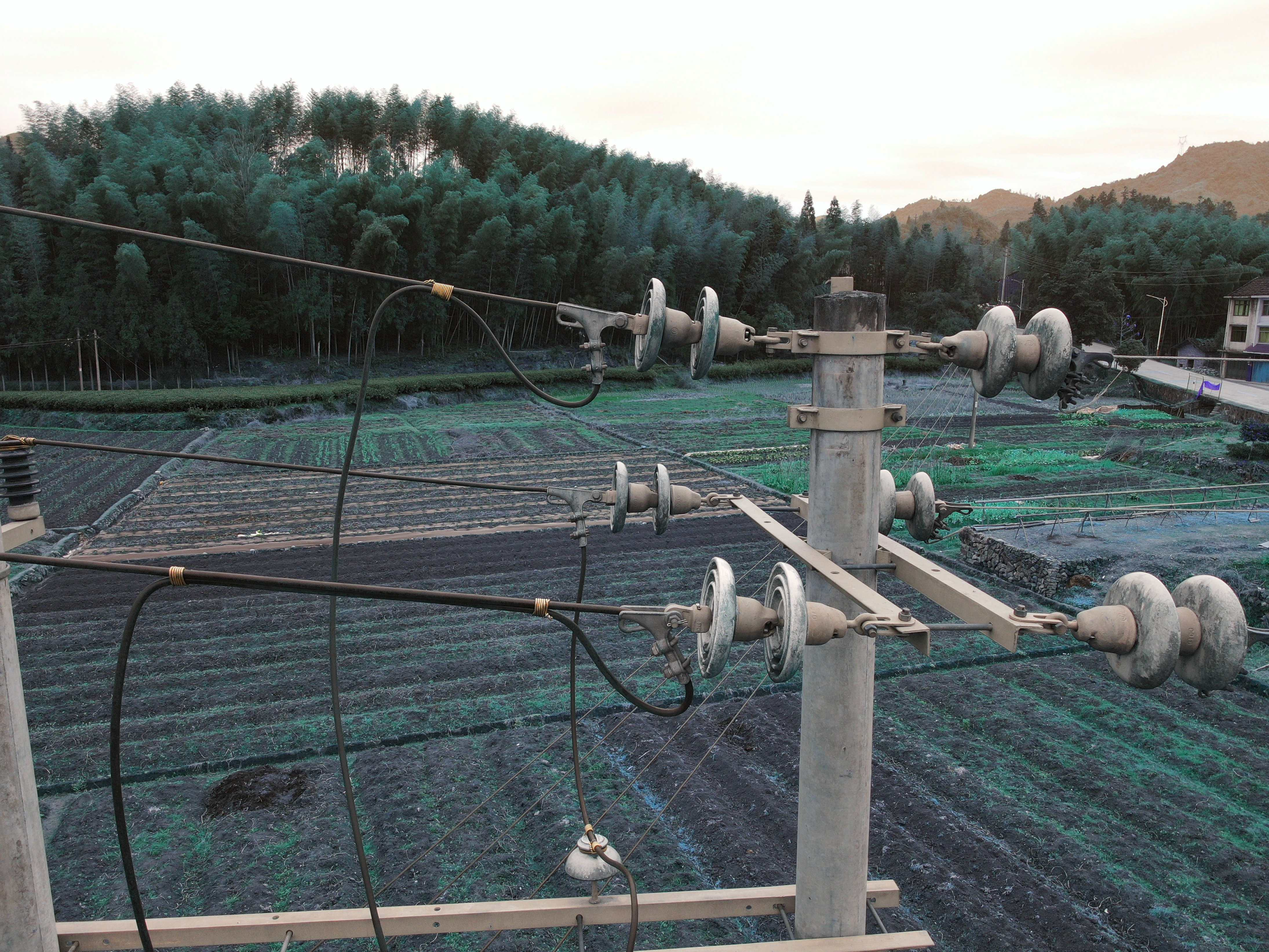severe_soiling_no_discharge_whole: (1071, 569, 1257, 697), (687, 554, 842, 682), (629, 276, 760, 381), (944, 307, 1080, 403), (606, 461, 702, 534), (877, 464, 939, 543), (563, 833, 625, 882)
